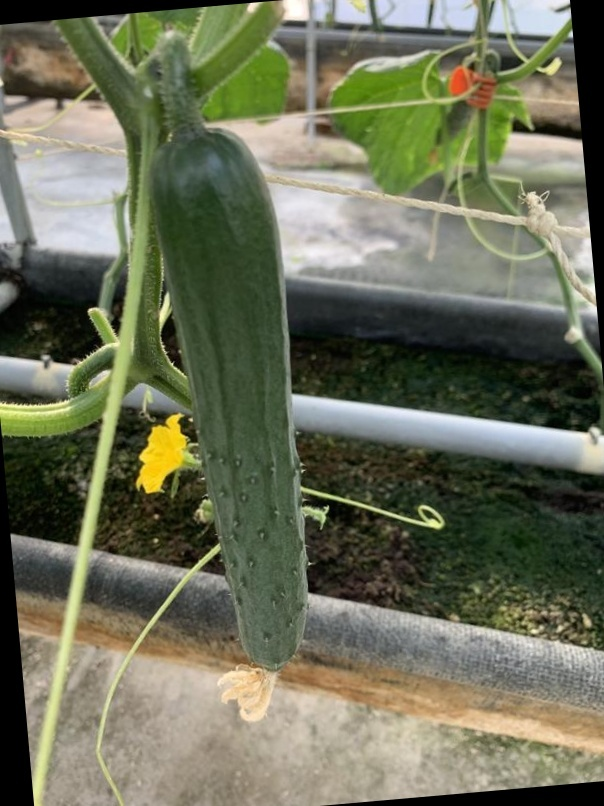mature: (141, 145, 317, 666)
